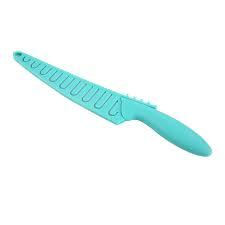Knife: (12, 49, 212, 157)
